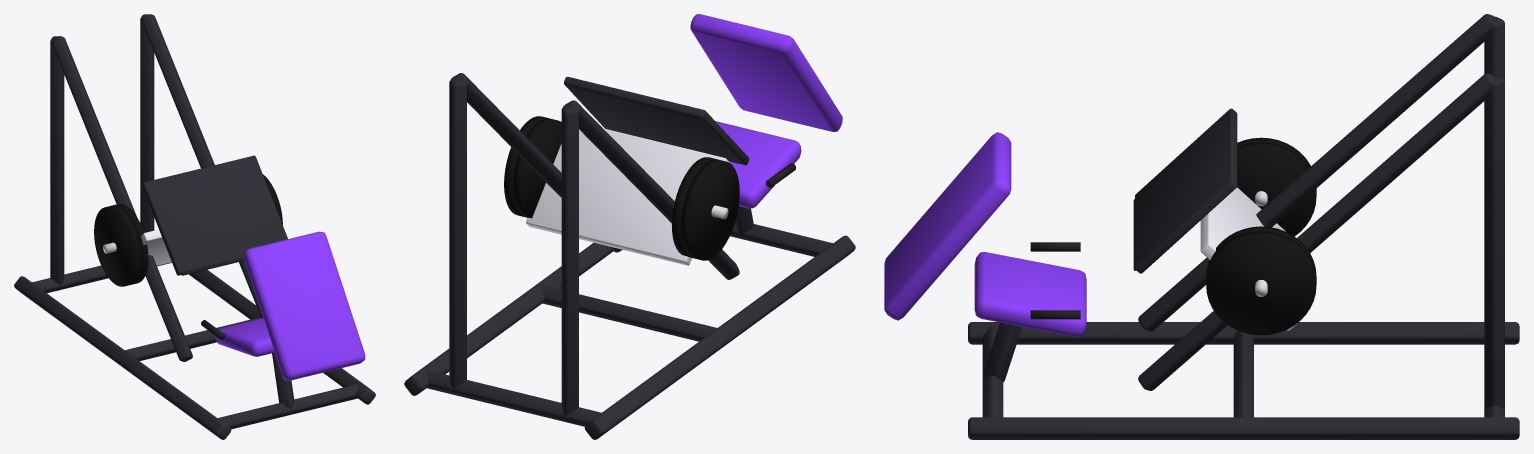
File: prensa-45.glb
3 renders of one model, left to right at view 1: azimuth 30°, elevation 25°; view 2: azimuth 150°, elevation 25°; view 3: azimuth 270°, elevation 25°, orthographic. The views are drawn at different scales.
Parts seen in each view (by area): view 1: carro, Cube.001, Cylinder.005, Cylinder, Cylinder.006, Cylinder.007, Cylinder.008, Cylinder.002, Cylinder.001, Cube, Cylinder.003, Cylinder.004 (+1 smaller); view 2: carro, Cube.001, Cylinder, Cylinder.006, Cylinder.008, Cylinder.001, Cube, Cylinder.005, Cylinder.004, Cylinder.003, Cylinder.007, Cylinder.002; view 3: carro, Cylinder.001, Cube.001, Cylinder, Cylinder.005, Cylinder.007, Cube, Cylinder.008, Cylinder.003, Cylinder.002, Cylinder.009, Cylinder.006.
Part boxes in pixels (x1,y1,x2,y2): carro: [94, 155, 287, 286]; Cube.001: [243, 231, 365, 380]; Cylinder.005: [51, 36, 192, 361]; Cylinder: [14, 276, 231, 439]; Cylinder.006: [50, 36, 64, 284]; Cylinder.007: [141, 14, 263, 318]; Cylinder.008: [140, 14, 154, 232]; Cylinder.002: [218, 384, 357, 429]; Cylinder.001: [189, 269, 375, 404]; Cube: [215, 318, 274, 356]; Cylinder.003: [125, 317, 261, 360]; Cylinder.004: [32, 262, 171, 293]; carro: [504, 76, 749, 265]; Cube.001: [690, 14, 842, 131]; Cylinder: [584, 235, 855, 439]; Cylinder.006: [561, 106, 578, 415]; Cylinder.008: [449, 79, 466, 388]; Cylinder.001: [404, 243, 613, 395]; Cube: [715, 121, 801, 208]; Cylinder.005: [563, 100, 739, 279]; Cylinder.004: [426, 370, 601, 426]; Cylinder.003: [542, 285, 717, 341]; Cylinder.007: [451, 73, 622, 252]; Cylinder.002: [730, 223, 832, 256]; carro: [1133, 108, 1316, 335]; Cylinder.001: [968, 417, 1519, 439]; Cube.001: [884, 132, 1011, 320]; Cylinder: [968, 322, 1519, 344]; Cylinder.005: [1138, 14, 1494, 331]; Cylinder.007: [1138, 73, 1494, 390]; Cube: [974, 252, 1086, 336]; Cylinder.008: [1484, 76, 1504, 408]; Cylinder.003: [1233, 330, 1253, 417]; Cylinder.002: [982, 325, 1003, 417]; Cylinder.009: [983, 322, 1021, 381]; Cylinder.006: [1484, 16, 1504, 81].
Bounding box in the file's own units: 1.03 × 1.53 × 2.53.
